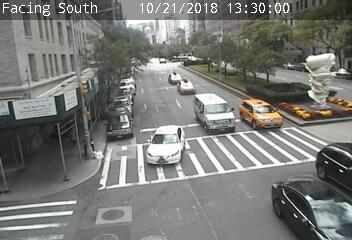car: (194, 93, 234, 133), (146, 125, 185, 165), (240, 99, 282, 130), (177, 80, 194, 94), (168, 73, 183, 84)
